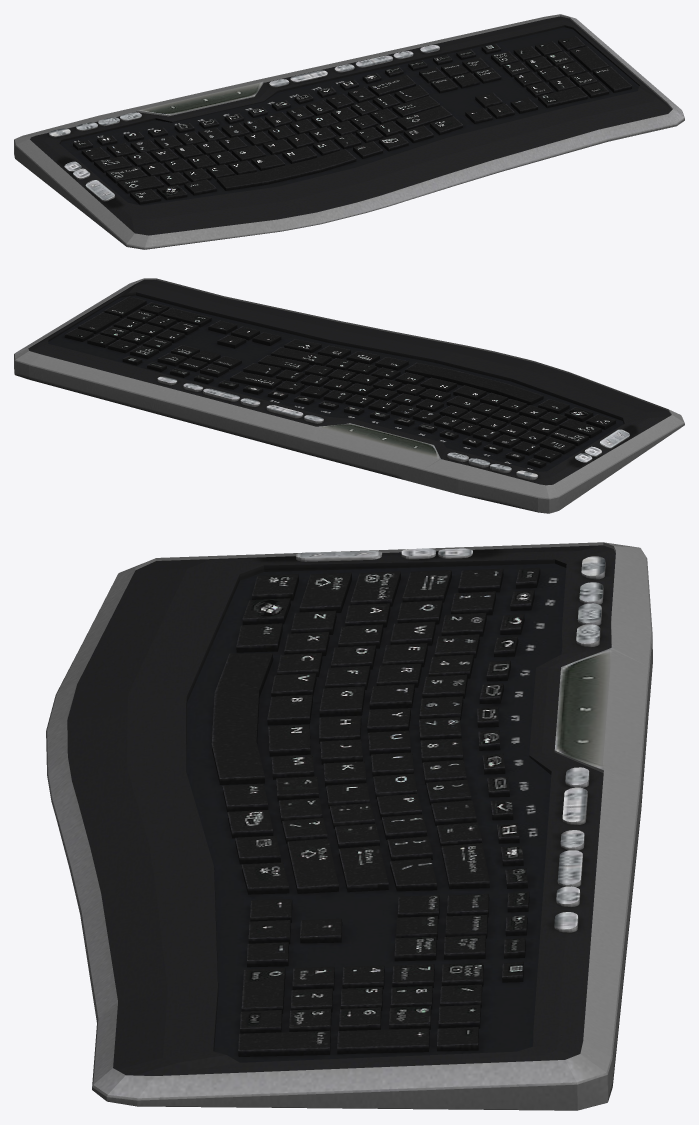
The model's file is Keyboard.gltf.
The picture shows the model from 3 angles, top to bottom: view 1: azimuth 30°, elevation 25°; view 2: azimuth 150°, elevation 25°; view 3: azimuth 270°, elevation 25°; orthographic projection. The views are drawn at different scales.
Parts seen in each view (by area): view 1: M Keyboard; view 2: M Keyboard; view 3: M Keyboard.
Part boxes in pixels (x1,y1,x2,y2): M Keyboard: (14,14,684,249); M Keyboard: (14,278,684,513); M Keyboard: (46,542,652,1110).
Size of the model in its own units: 0.3426 by 0.0133 by 0.1615.
1 material, 1 textured.
